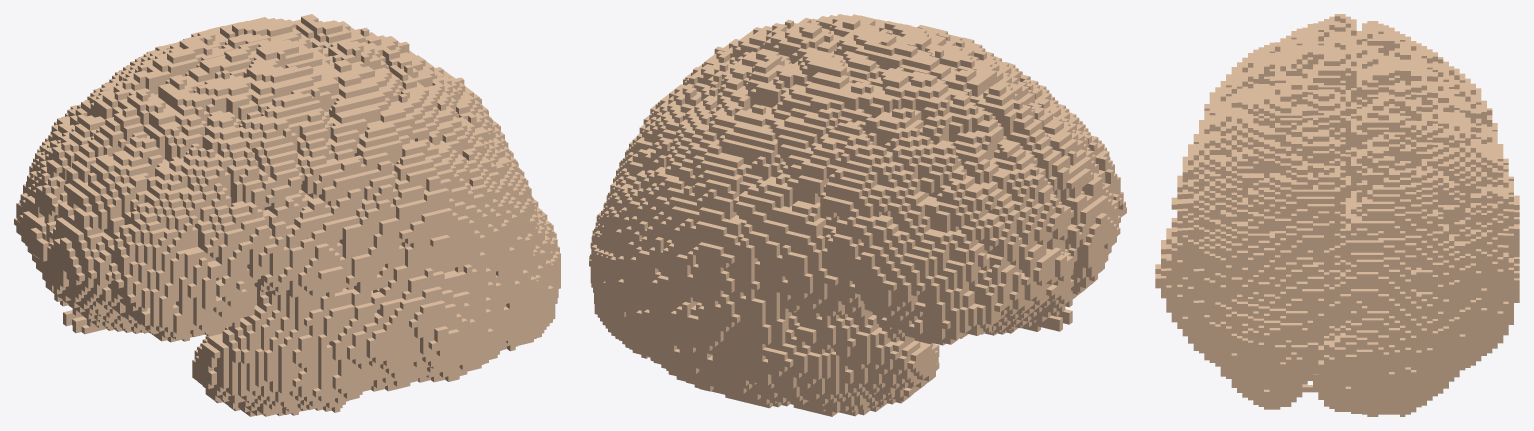
The model's file is brain_gray.fbx.
3 renders of one model, left to right at view 1: azimuth 30°, elevation 25°; view 2: azimuth 150°, elevation 25°; view 3: azimuth 270°, elevation 25°, orthographic. The views are drawn at different scales.
Parts seen in each view (by area): view 1: AustinMan; view 2: AustinMan; view 3: AustinMan.
Part boxes in pixels (x1,y1,x2,y2): AustinMan: (14, 14, 560, 416); AustinMan: (589, 14, 1126, 416); AustinMan: (1155, 14, 1519, 416).
Bounding box in the file's own units: 8600 × 5500 × 6700.
